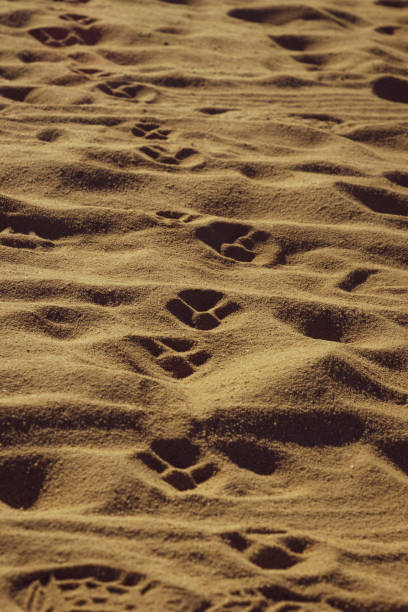animal_footprint: (12, 563, 208, 611), (137, 438, 216, 490), (196, 221, 283, 265), (221, 531, 312, 569), (208, 583, 321, 611), (166, 289, 239, 329), (139, 337, 209, 378), (29, 13, 100, 47), (98, 79, 157, 102), (139, 144, 198, 165), (0, 228, 54, 248), (132, 120, 170, 140), (155, 210, 199, 224), (59, 13, 96, 25)
